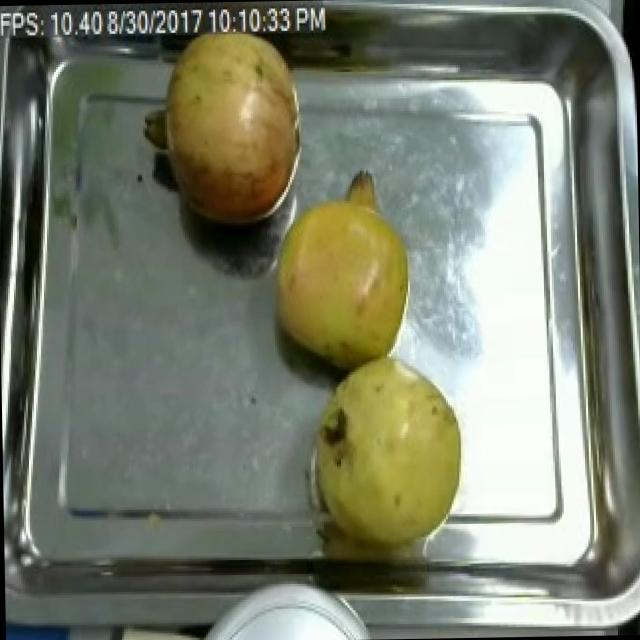fruit: (302, 342, 470, 561), (148, 12, 306, 236), (264, 174, 421, 378)
